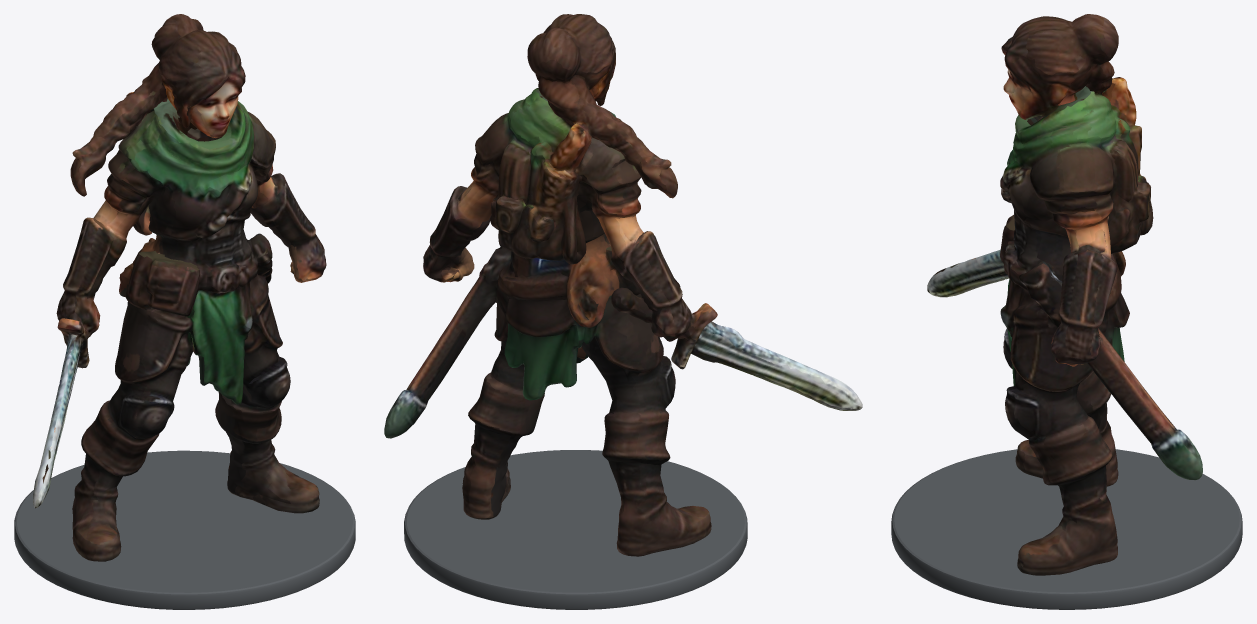
Rendered from tattered-cloak-lieutenant.glb.
3 renders of one model, left to right at view 1: azimuth 30°, elevation 25°; view 2: azimuth 150°, elevation 25°; view 3: azimuth 270°, elevation 25°, orthographic. The views are drawn at different scales.
Parts seen in each view (by area): view 1: tattered-cloak-lieutenant_body, tattered-cloak-lieutenant_round_base; view 2: tattered-cloak-lieutenant_body, tattered-cloak-lieutenant_round_base; view 3: tattered-cloak-lieutenant_body, tattered-cloak-lieutenant_round_base.
Boxes of the visible parts, box(x1,y1,x2,y2) form: tattered-cloak-lieutenant_body: box(32, 14, 326, 561); tattered-cloak-lieutenant_round_base: box(14, 450, 355, 609); tattered-cloak-lieutenant_body: box(384, 14, 862, 556); tattered-cloak-lieutenant_round_base: box(404, 450, 747, 609); tattered-cloak-lieutenant_body: box(927, 14, 1202, 575); tattered-cloak-lieutenant_round_base: box(891, 449, 1242, 609).
Size of the model in its own units: 1.24 by 1.65 by 1.
Materials: 2 (1 with a texture image).
